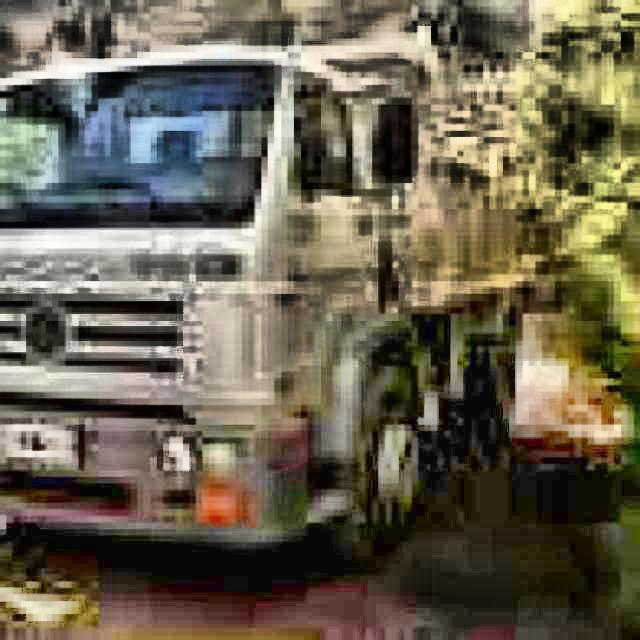dump_truck: (0, 32, 555, 561)
